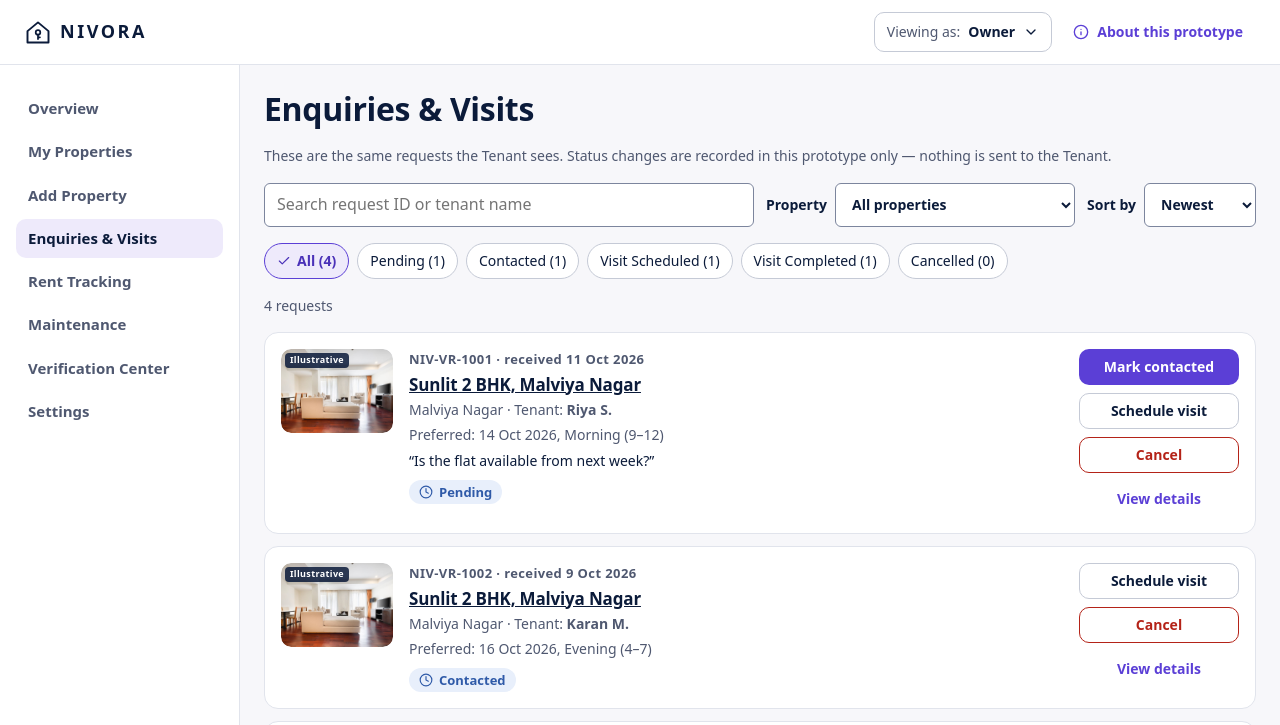
O-07 Enquiries & Visits (AC-14, AC-15, AC-23, AC-26 owner side) › Mark contacted changes the one shared record and says nothing was sent
Click the button with aria-label "Mark contacted for NIV-VR-1001". click: (1159, 367)
box: x1=1079 y1=349 x2=1239 y2=385
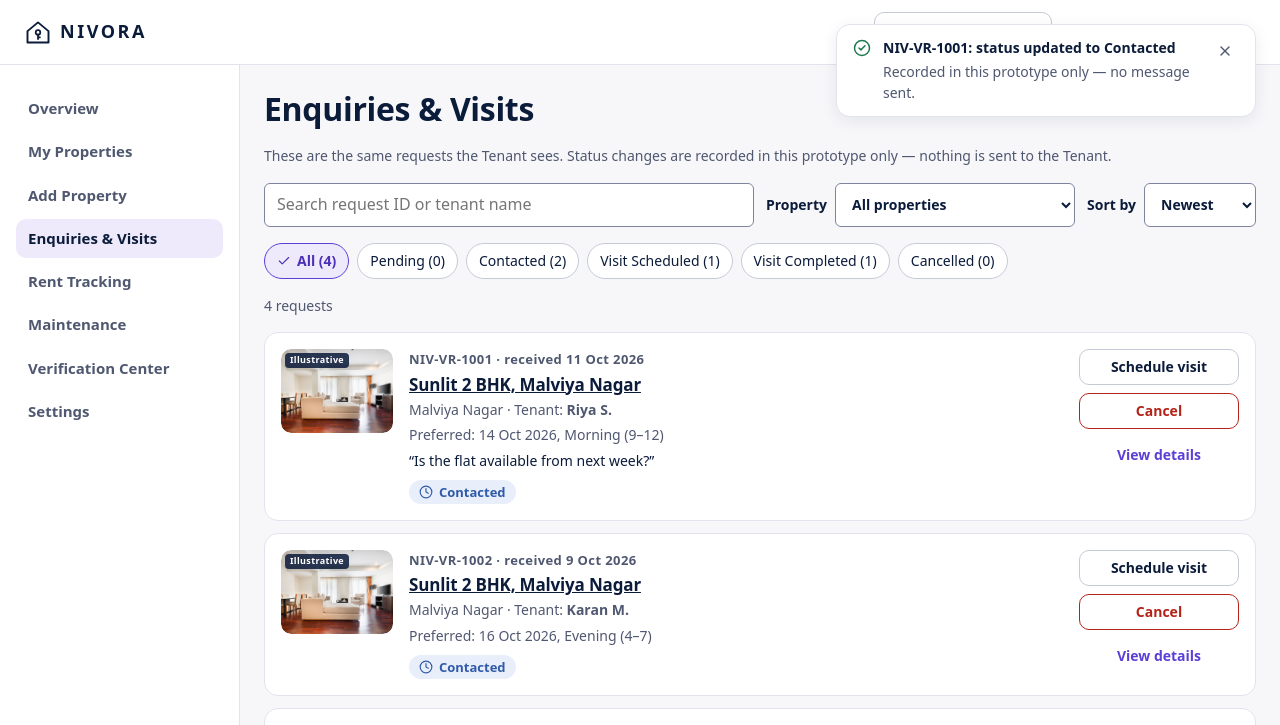
Now the text "Contacted" below "Is the flat available from next week?" is shown, box x1=439 y1=483 x2=506 y2=501
Now the text "NIV-VR-1001: status updated to Contacted" is shown, box x1=883 y1=37 x2=1199 y2=59
Now the text "Recorded in this prototype only — no message sent." is shown, box x1=883 y1=61 x2=1199 y2=104
